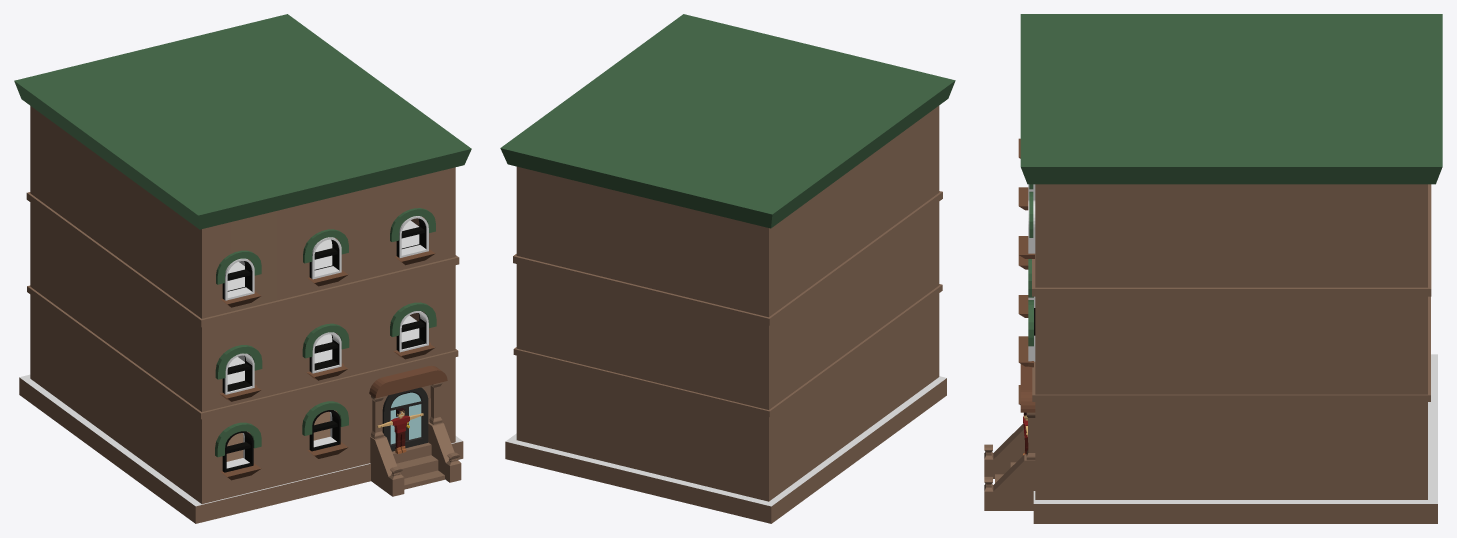
Rendered from apartmentbuilding2.fbx.
3 views of the same model, side by side, from view 1: azimuth 30°, elevation 25°; view 2: azimuth 150°, elevation 25°; view 3: azimuth 270°, elevation 25° (orthographic). The views are drawn at different scales.
Visible parts, largest first — view 1: buildingshell, Buildingroof, Lobbyfloor, Entrance Stair Handles, FirstfloorWindowArches, Buildingdoor, SecondfloorWindowArches, Entrance Stairs, Firstfloorwindowframes, Cube.004, Cube, LobbyfloorwindowArches (+10 smaller); view 2: buildingshell, Buildingroof, Lobbyfloor; view 3: buildingshell, Buildingroof, Lobbyfloor, Entrance Stair Handles, Cube, FirstFloorWindowshelves, SecondFloorWindowshelves.
Boxes of the visible parts, bbox=[...] form: buildingshell: bbox=[26, 106, 459, 503]; Buildingroof: bbox=[14, 14, 471, 229]; Lobbyfloor: bbox=[19, 374, 463, 523]; Entrance Stair Handles: bbox=[370, 422, 461, 496]; FirstfloorWindowArches: bbox=[215, 302, 436, 379]; Buildingdoor: bbox=[382, 387, 428, 451]; SecondfloorWindowArches: bbox=[216, 208, 435, 284]; Entrance Stairs: bbox=[392, 442, 444, 489]; Firstfloorwindowframes: bbox=[222, 311, 425, 393]; Cube.004: bbox=[224, 216, 428, 300]; Cube: bbox=[369, 365, 447, 398]; LobbyfloorwindowArches: bbox=[215, 401, 348, 457]; buildingshell: bbox=[513, 105, 942, 501]; Buildingroof: bbox=[500, 14, 955, 228]; Lobbyfloor: bbox=[505, 376, 946, 523]; buildingshell: bbox=[1032, 184, 1431, 499]; Buildingroof: bbox=[1020, 14, 1442, 184]; Lobbyfloor: bbox=[1033, 354, 1437, 523]; Entrance Stair Handles: bbox=[984, 424, 1035, 510]; Cube: bbox=[1020, 364, 1035, 412]; FirstFloorWindowshelves: bbox=[1018, 255, 1033, 367]; SecondFloorWindowshelves: bbox=[1018, 138, 1034, 258].
Size of the model in its own units: 4694 by 5139 by 5947.
